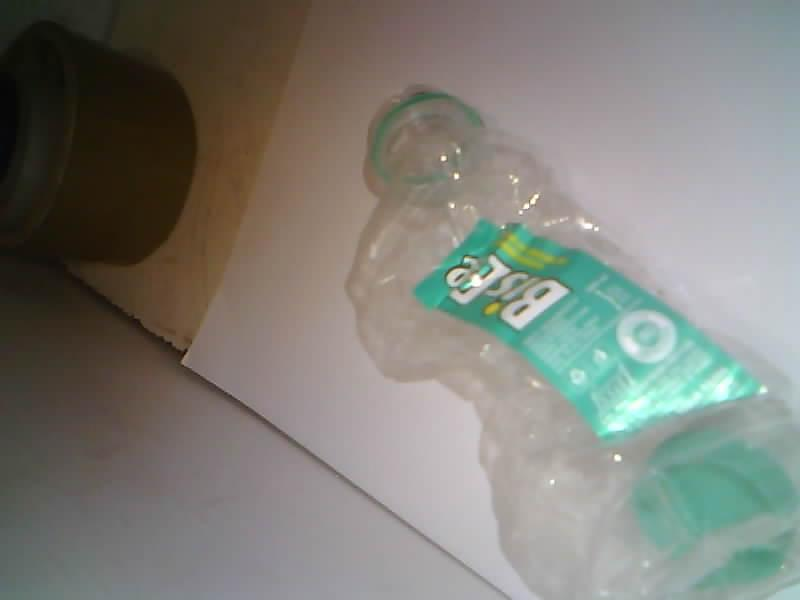non-biodegradable: (349, 92, 799, 599)
